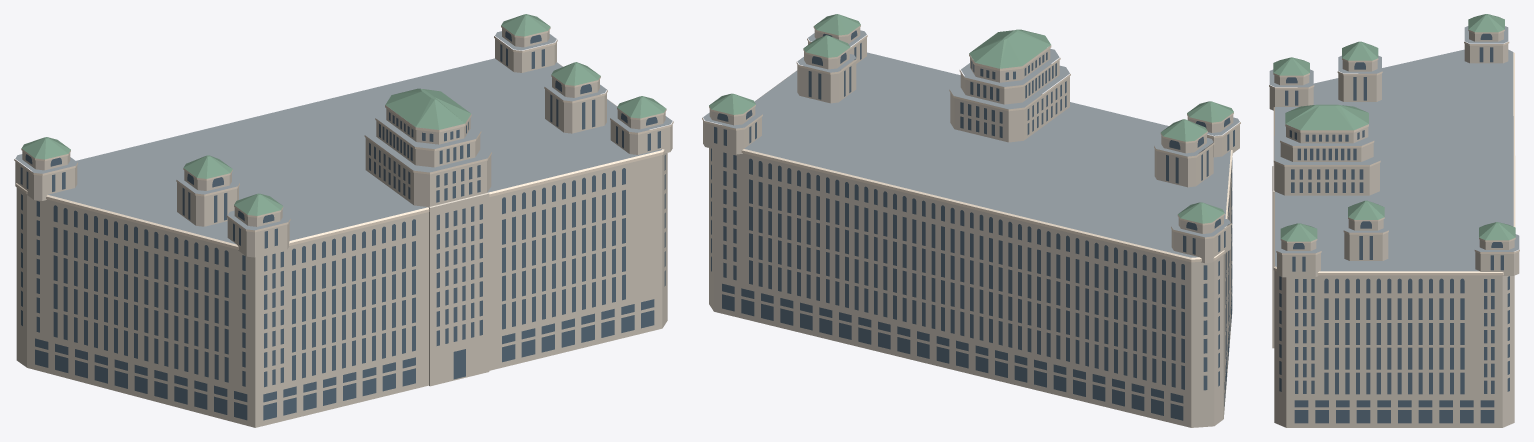
The model's file is chi-merchandise-mart.glb.
The picture shows the model from 3 angles, left to right: view 1: azimuth 30°, elevation 25°; view 2: azimuth 150°, elevation 25°; view 3: azimuth 270°, elevation 25°; orthographic projection. The views are drawn at different scales.
Parts seen in each view (by area): view 1: Merchandise Mart; view 2: Merchandise Mart; view 3: Merchandise Mart.
Boxes of the visible parts, x1,y1,x2,y2 form: Merchandise Mart: (14, 14, 673, 427); Merchandise Mart: (702, 14, 1240, 427); Merchandise Mart: (1269, 14, 1519, 427).
Bounding box in the file's own units: 222 × 104 × 103.
